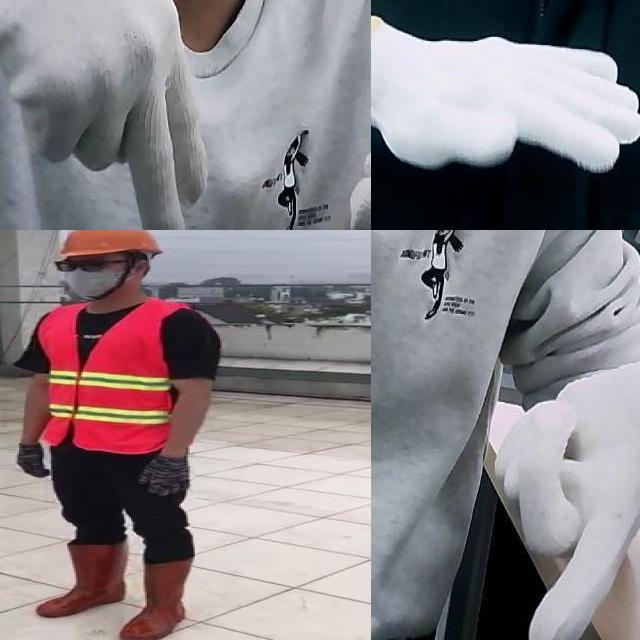BOOTS: (30, 543, 128, 616), (119, 557, 197, 640)
GLASS: (50, 256, 129, 276)
GLOVE: (0, 0, 211, 230), (371, 14, 640, 174), (495, 362, 640, 640), (134, 455, 194, 504), (10, 436, 57, 482)
HELMET: (47, 230, 165, 260)
VEST: (30, 297, 200, 454)
